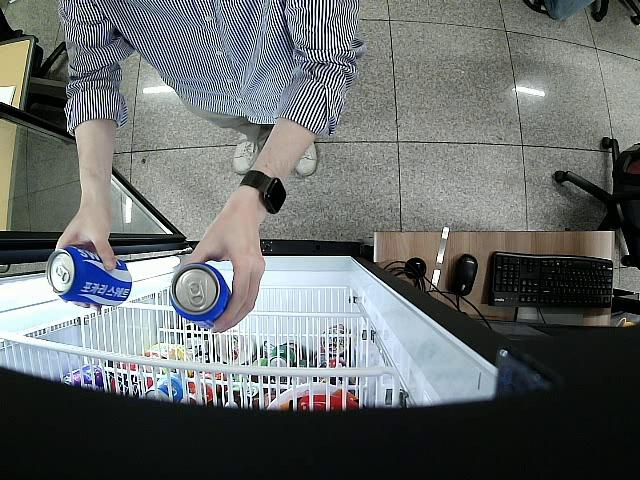00_hand: (172, 214, 267, 332), (56, 212, 117, 315)
13_pocariSweat: (46, 248, 133, 304), (170, 261, 230, 325)
